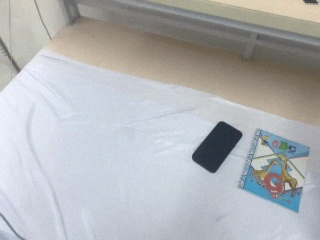book: (236, 127, 311, 214)
phone: (192, 121, 243, 174)
